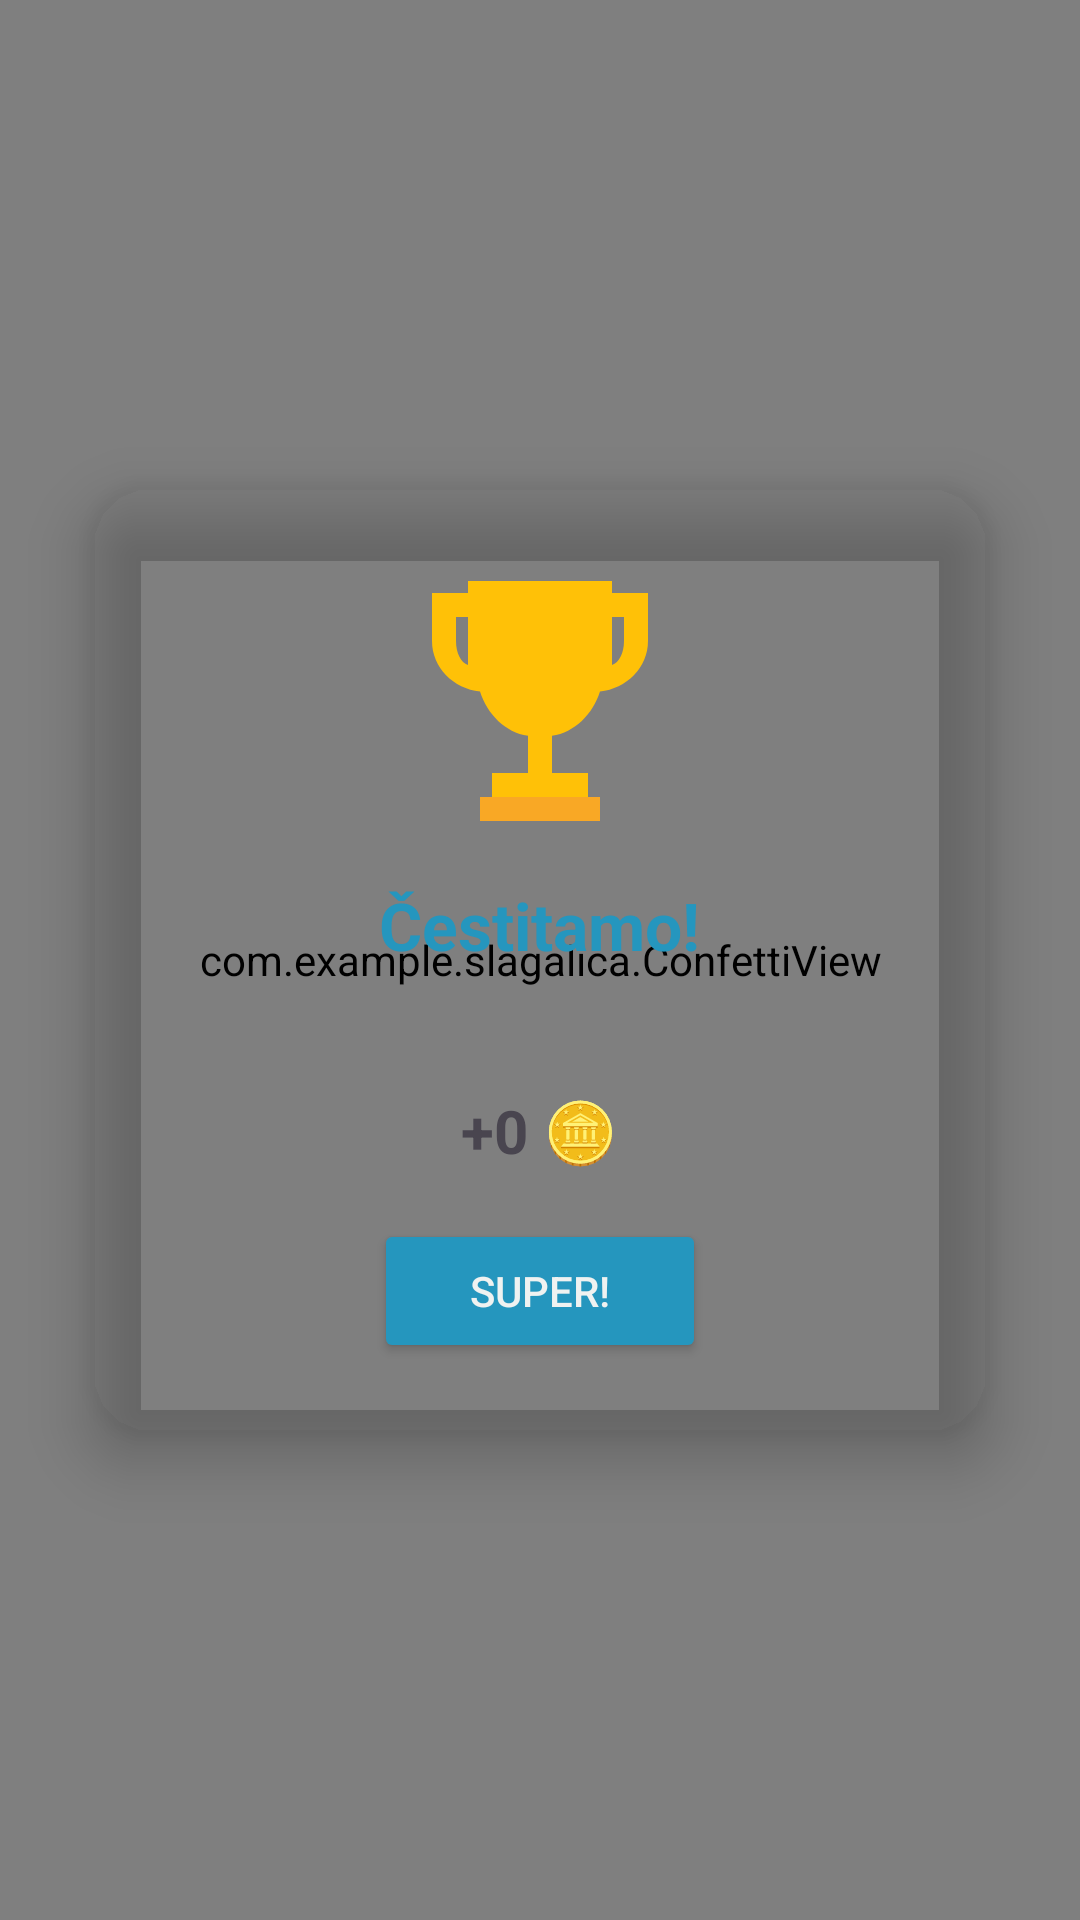

Screen size 1080x1920. Icon name, then its box in pixels as BBox(x1, y1, x2, y2):
Pehar: BBox(432, 581, 648, 821)
